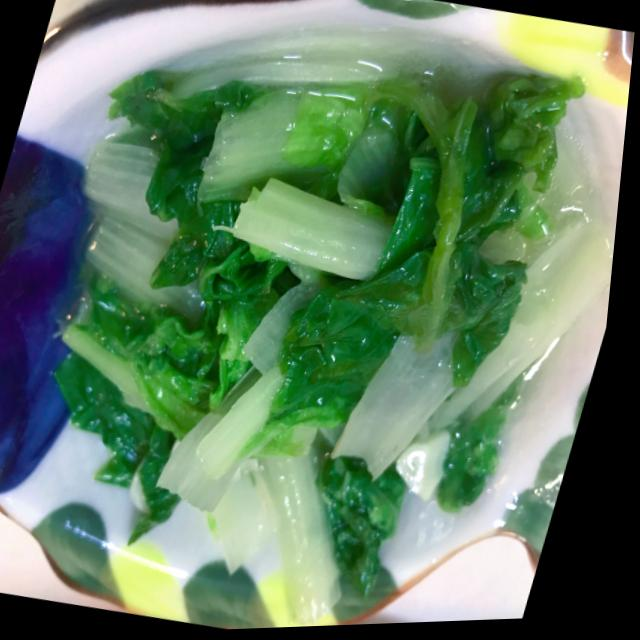chinese_cabbage: (21, 2, 609, 631)
